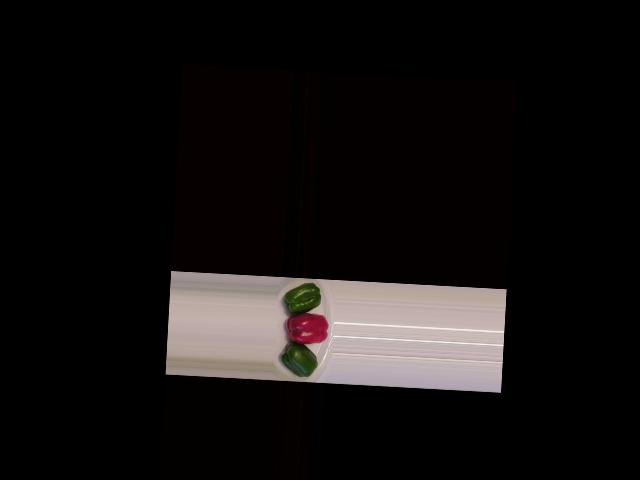bell_pepper: (276, 340, 323, 380)
